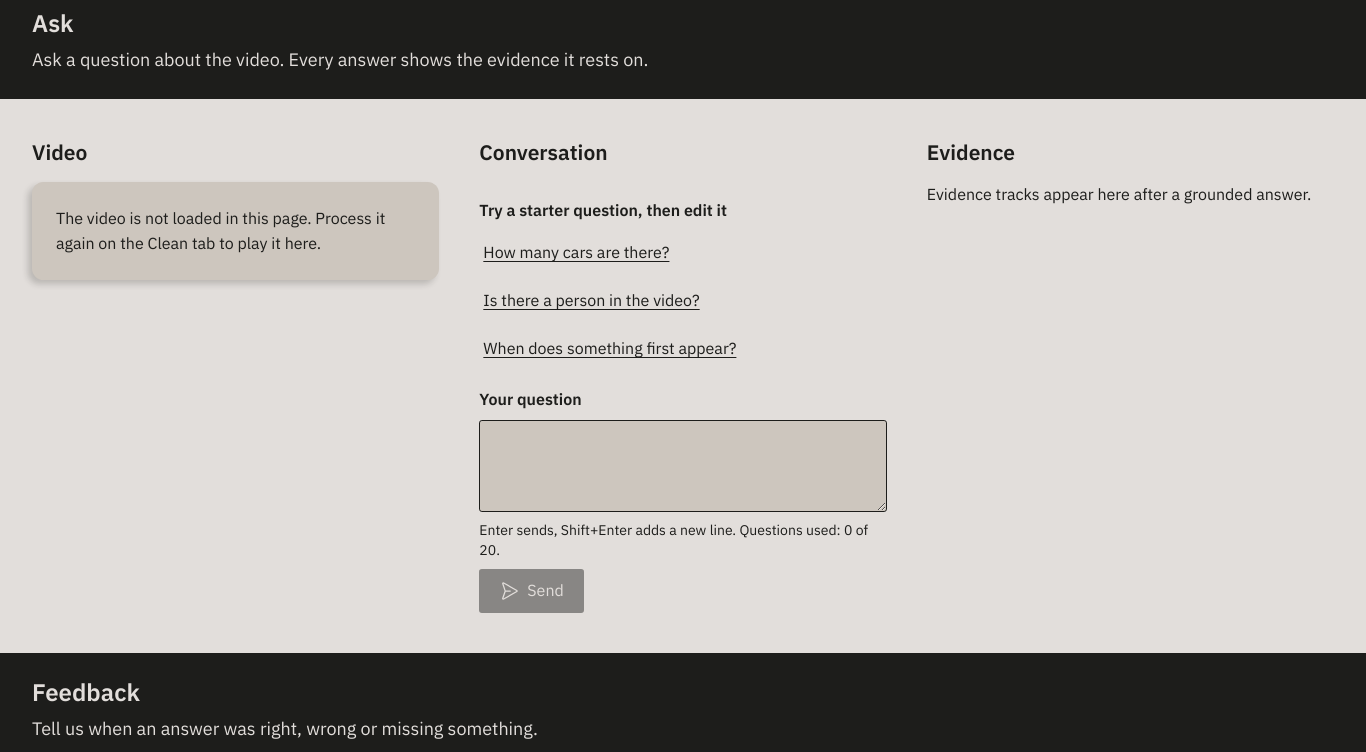
Test case: FeedbackView › keeps the retain checkbox unchecked and sends retain_media false by default
Type "How many cars are there?" into the text box labelled "Your question" at (683, 466), box [479,420,887,512]
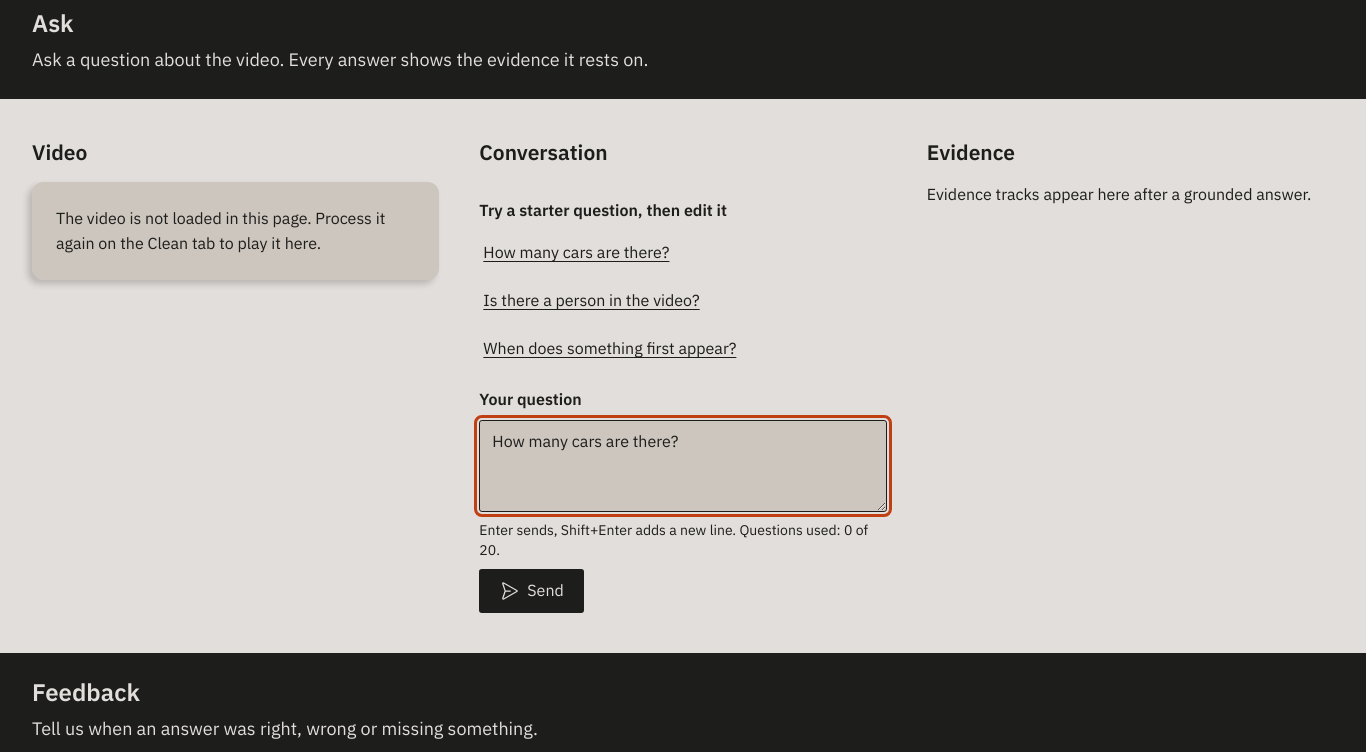
Click the button "Send" at (532, 591), box [479,569,584,613]
(page scrolled)
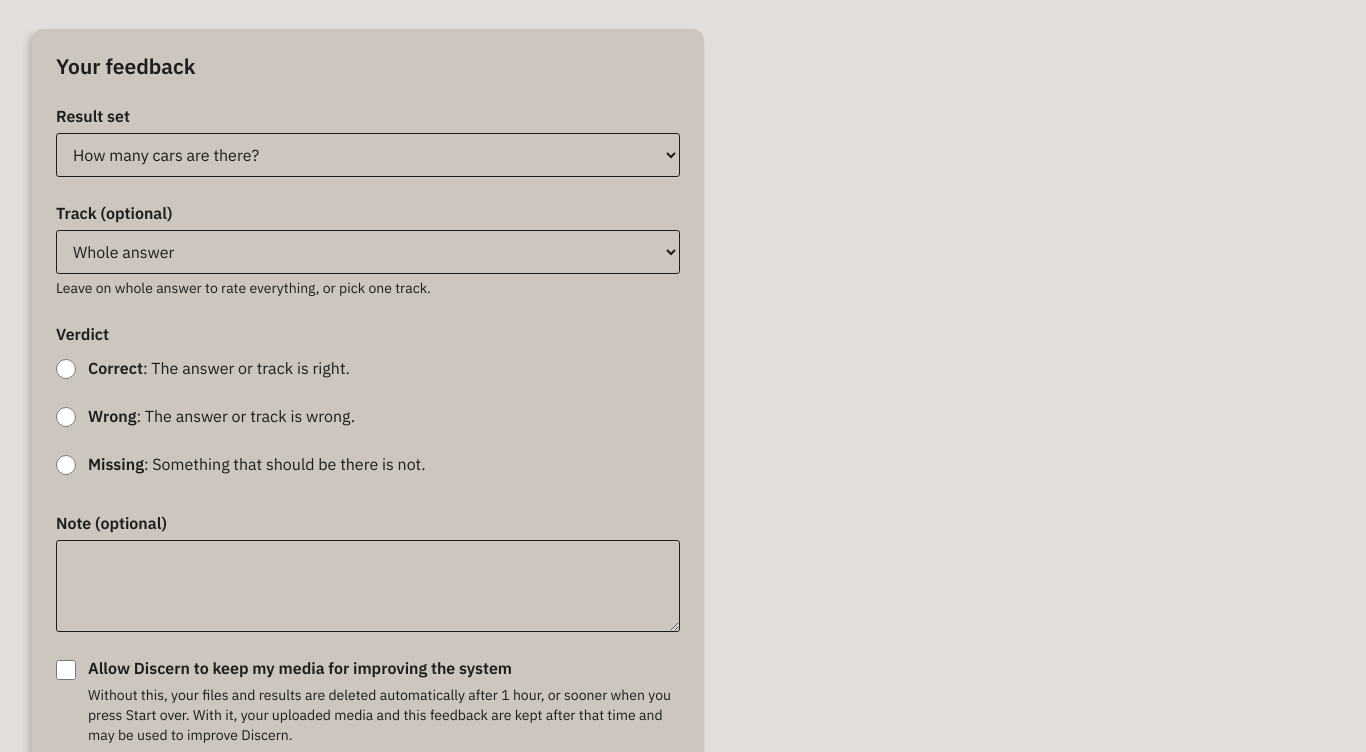
Expected: the checkbox labelled "Allow Discern to keep my media for improving the system" is not checked, [56,660,76,680]
Expected: the text "deleted automatically after 1 hour" is shown, [88,686,671,724]
Click the radio button labelled "Correct: The answer or track is right." at (66, 369), box [56,359,76,379]
(page scrolled)
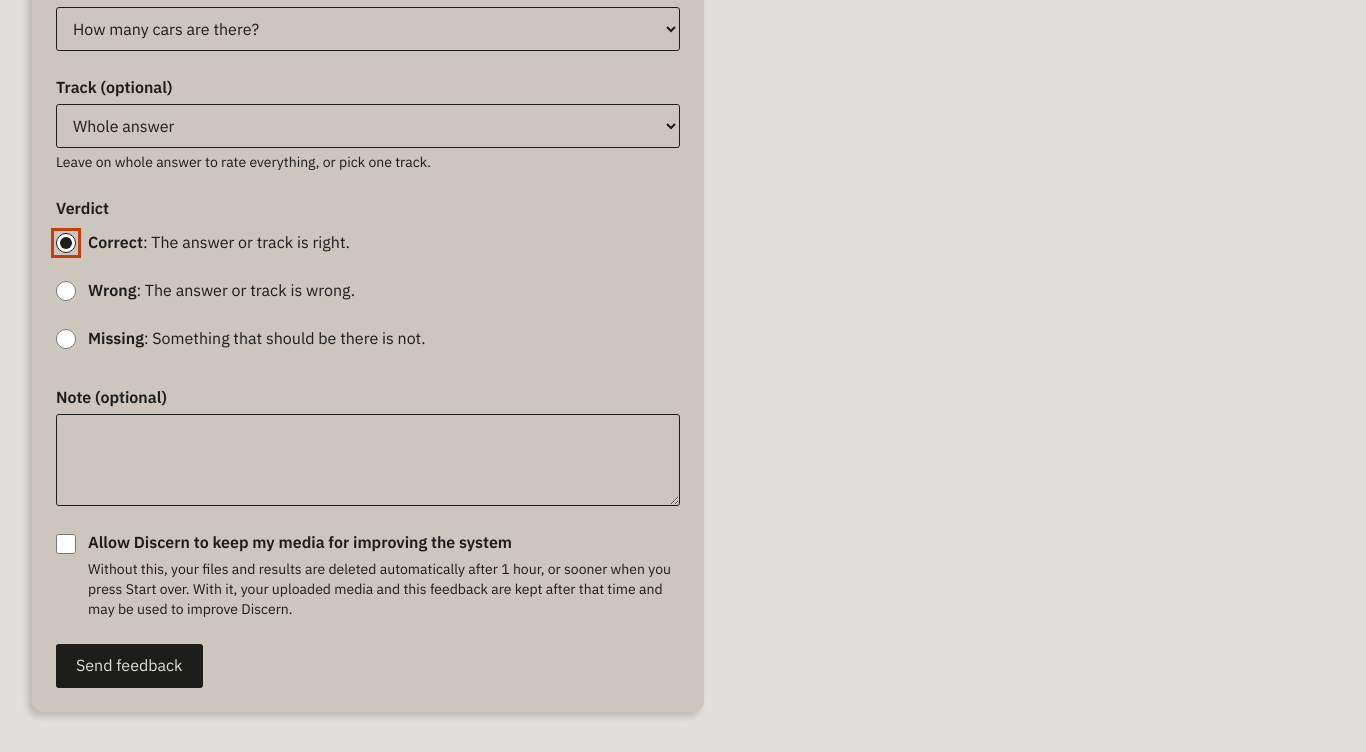
Click the button "Send feedback" at (129, 666), box [56,644,202,688]
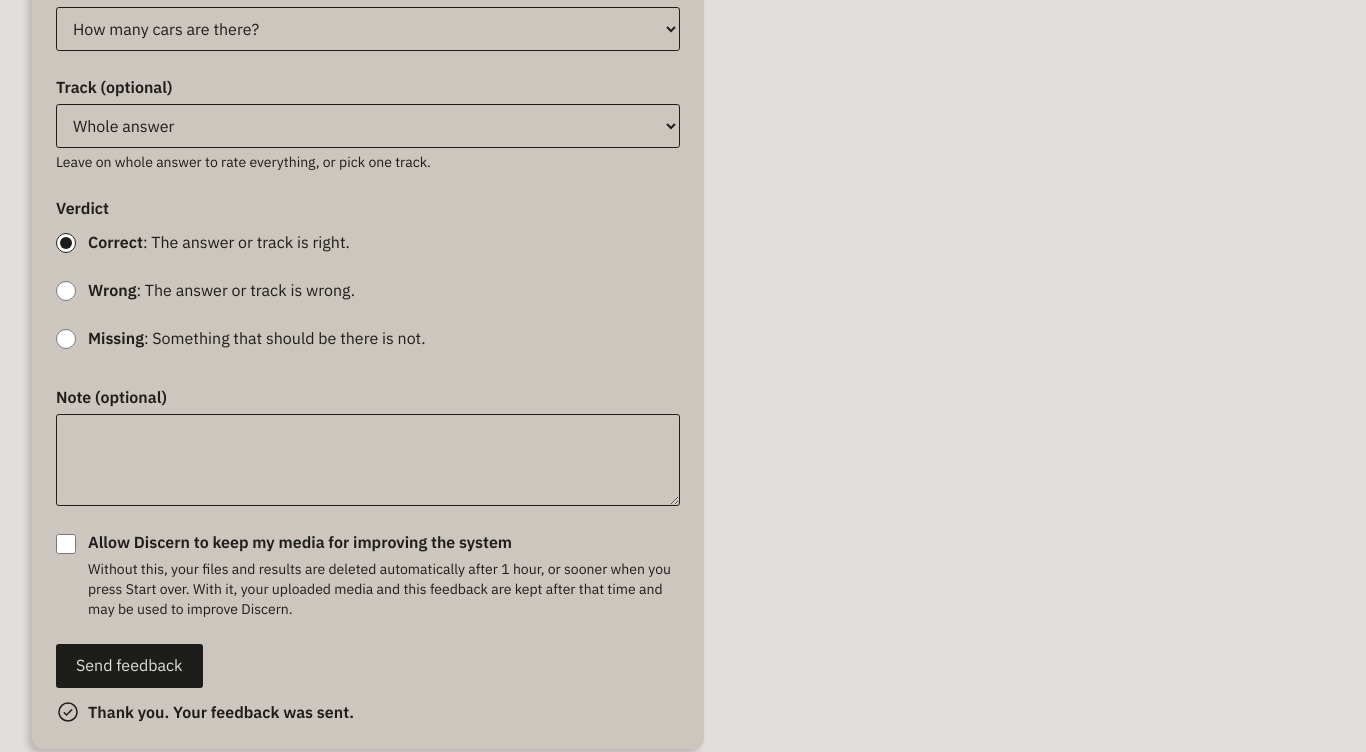
Expected: the text "Thank you. Your feedback was sent." is shown, [56,700,354,724]
